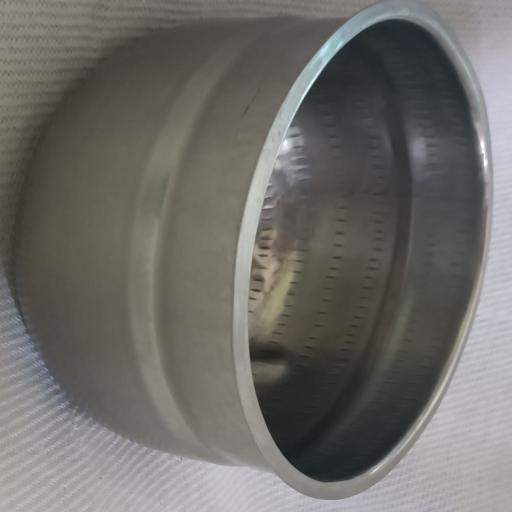vessel: (16, 0, 490, 499)
